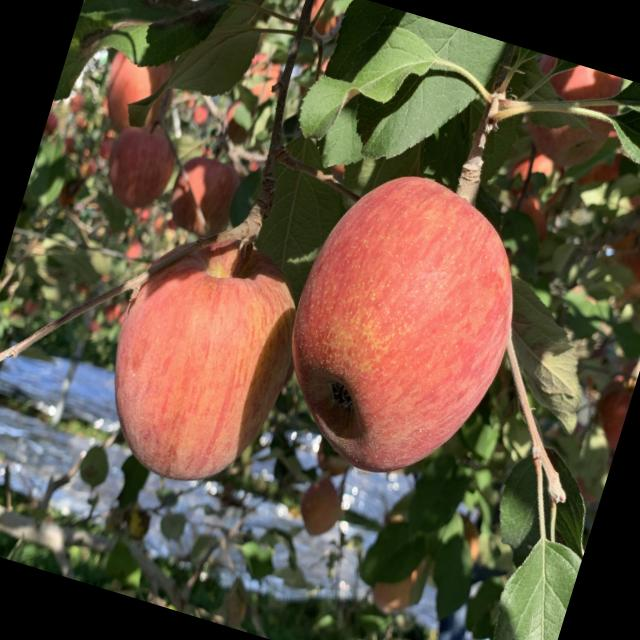fresh: (250, 145, 555, 508), (77, 205, 334, 511)
